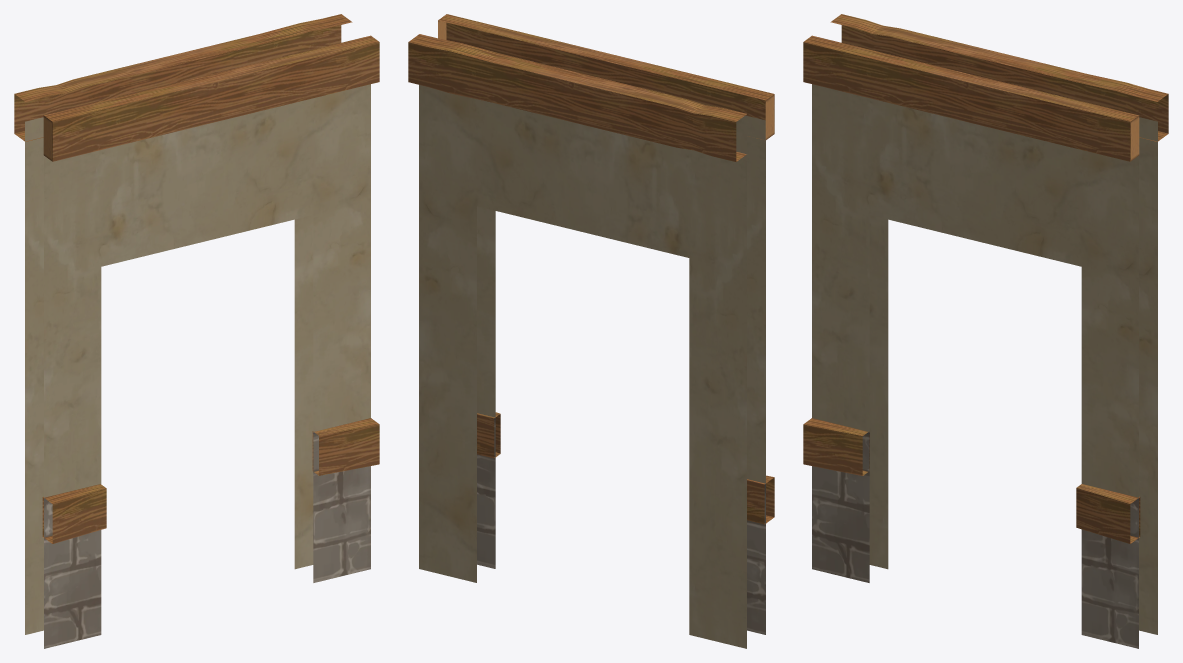
The model's file is Wall_Plaster_Door_Flat.glb.
The picture shows the model from 3 angles, left to right: view 1: azimuth 30°, elevation 25°; view 2: azimuth 150°, elevation 25°; view 3: azimuth 330°, elevation 25°; orthographic projection.
Visible parts, largest first — view 1: Wall_Plaster_Door_Flat; view 2: Wall_Plaster_Door_Flat; view 3: Wall_Plaster_Door_Flat.
Part boxes in pixels (<box>): Wall_Plaster_Door_Flat: <box>14,14,379,648</box>; Wall_Plaster_Door_Flat: <box>408,14,774,648</box>; Wall_Plaster_Door_Flat: <box>803,14,1168,648</box>.
Size of the model in its own units: 2 by 3.12 by 0.4064.
3 materials, 3 textured.
